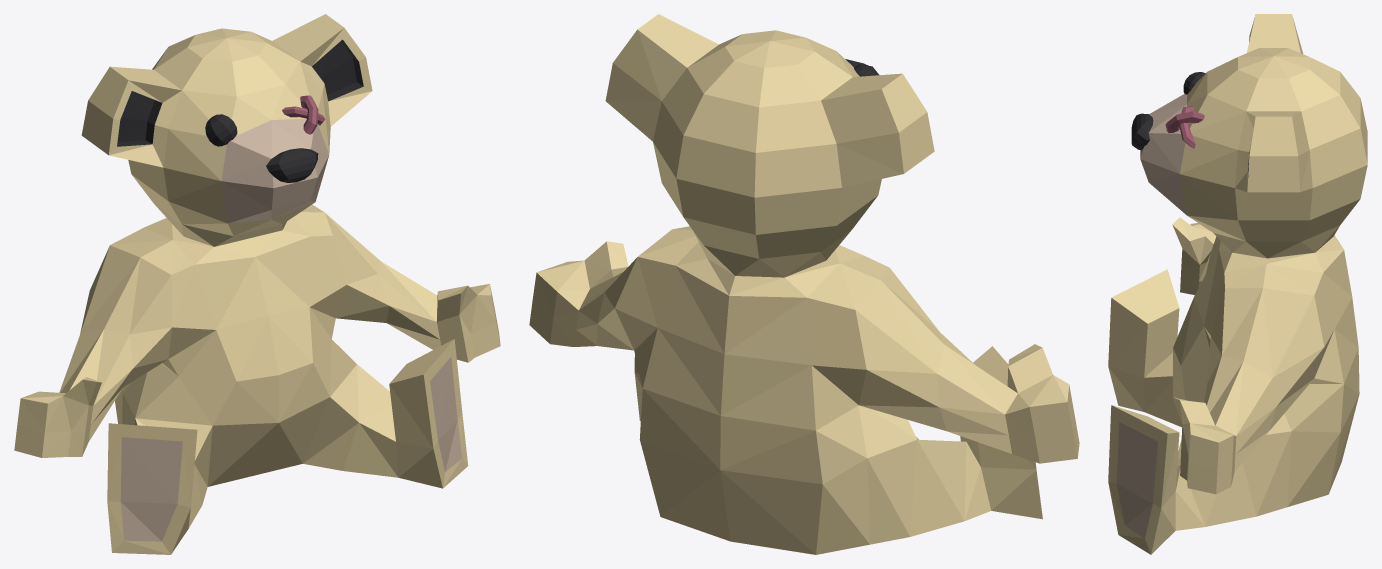
The model's file is TeddyBear.fbx.
3 renders of one model, left to right at view 1: azimuth 30°, elevation 25°; view 2: azimuth 150°, elevation 25°; view 3: azimuth 270°, elevation 25°, orthographic. The views are drawn at different scales.
Parts seen in each view (by area): view 1: TeddYBear; view 2: TeddYBear; view 3: TeddYBear.
Part boxes in pixels (x1,y1,x2,y2): TeddYBear: (14, 14, 500, 554); TeddYBear: (529, 14, 1079, 554); TeddYBear: (1108, 14, 1367, 554).
Bounding box in the file's own units: 1.19 × 0.9965 × 0.5661.
